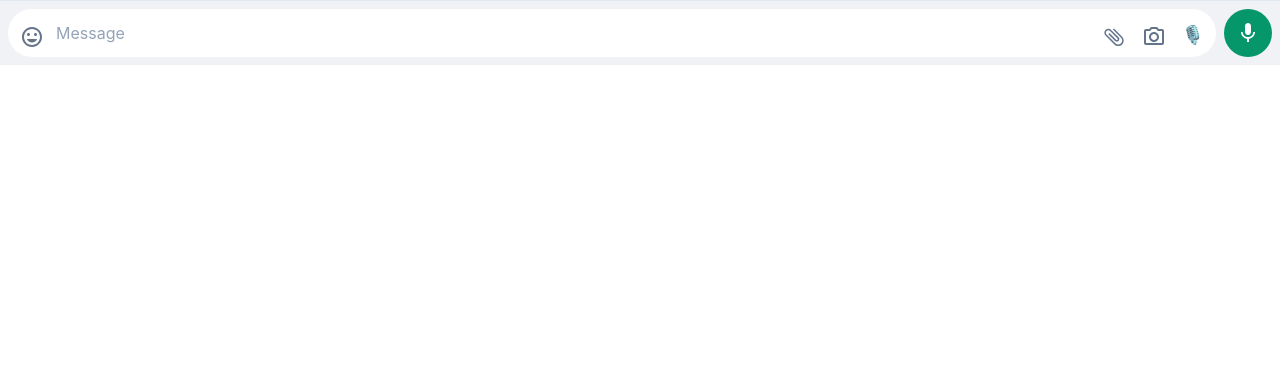
Test: Chat bar — WhatsApp layout › searches emojis by name, and remembers recently used ones
Click the button named "Emojis" at (32, 37), box [12, 17, 52, 57]
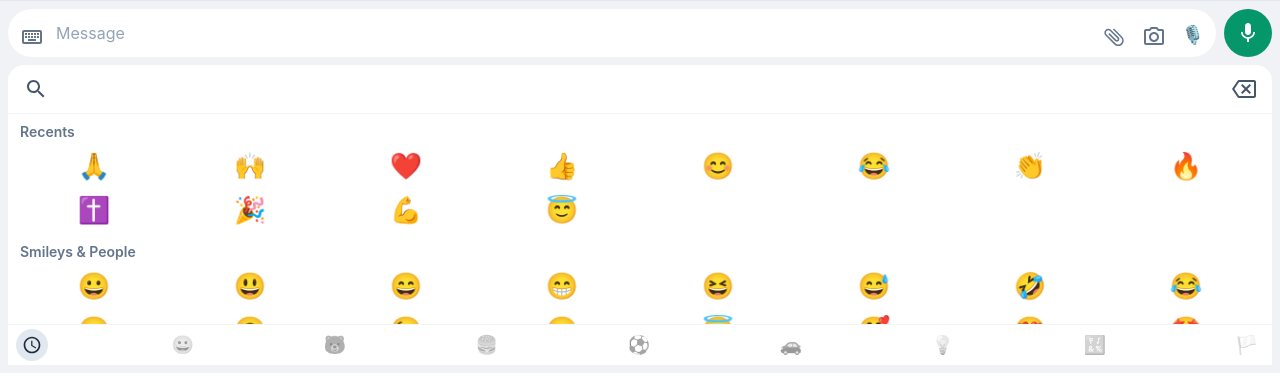
Now the element with test id "emoji-panel" is shown
Click the button named "Search emoji" at (36, 89), box [20, 73, 52, 105]
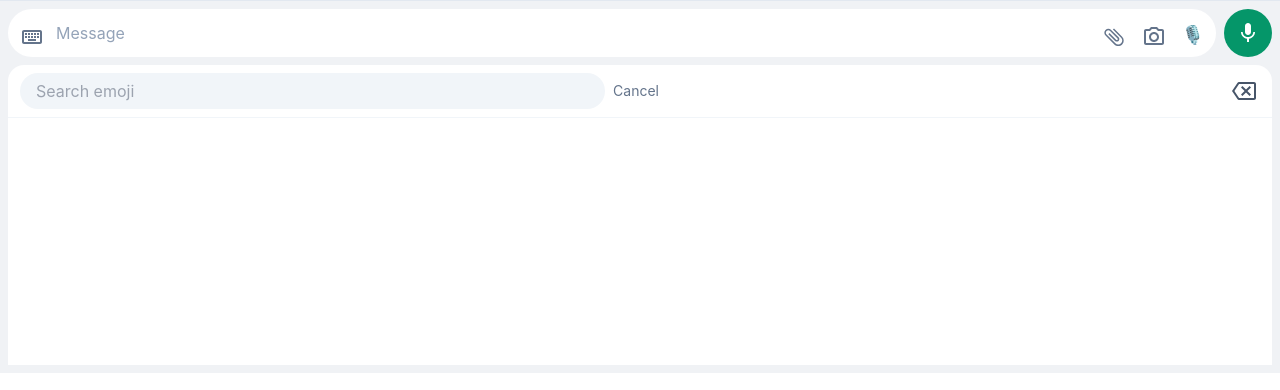
Type "cameroon" into the search field labelled "Search emoji" at (312, 91), box [20, 73, 605, 109]
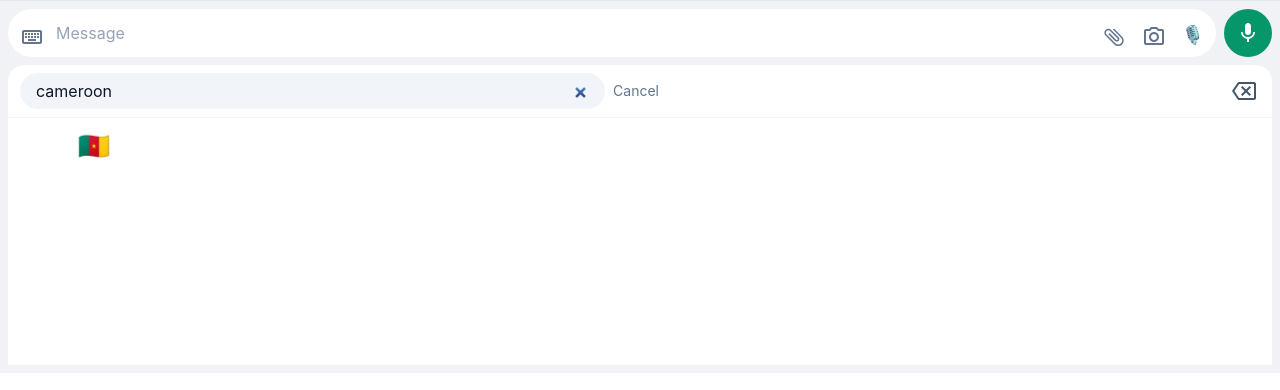
Click the button "🇨🇲" at (94, 146), box [16, 126, 172, 166]
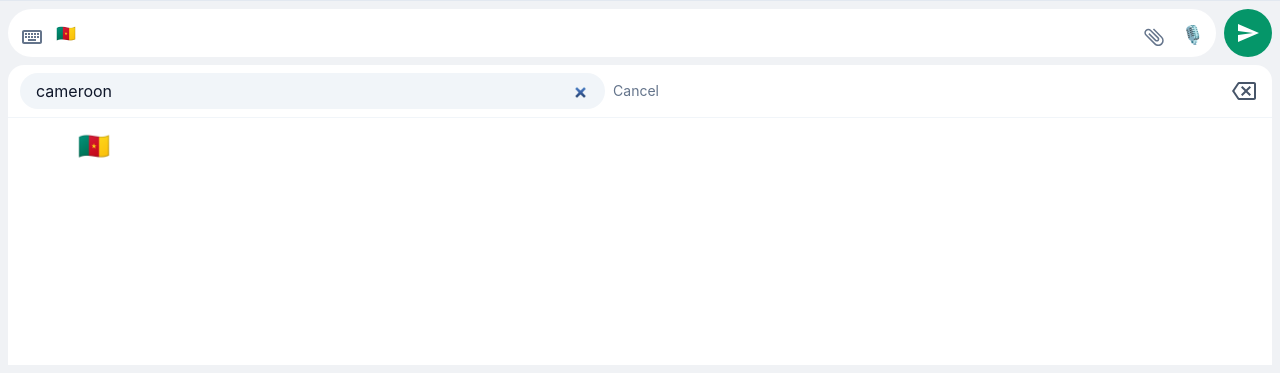
Now the text box named "Message" holds "🇨🇲", box [52, 9, 1134, 57]
